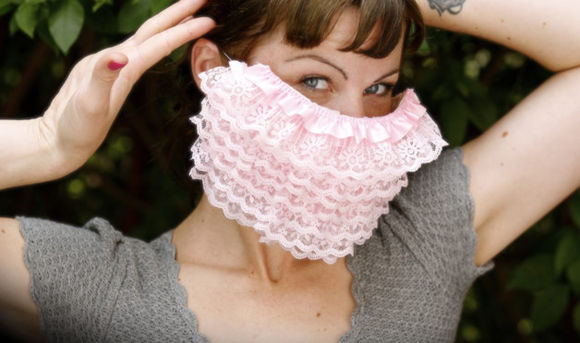face_mask: (235, 7, 402, 223)
